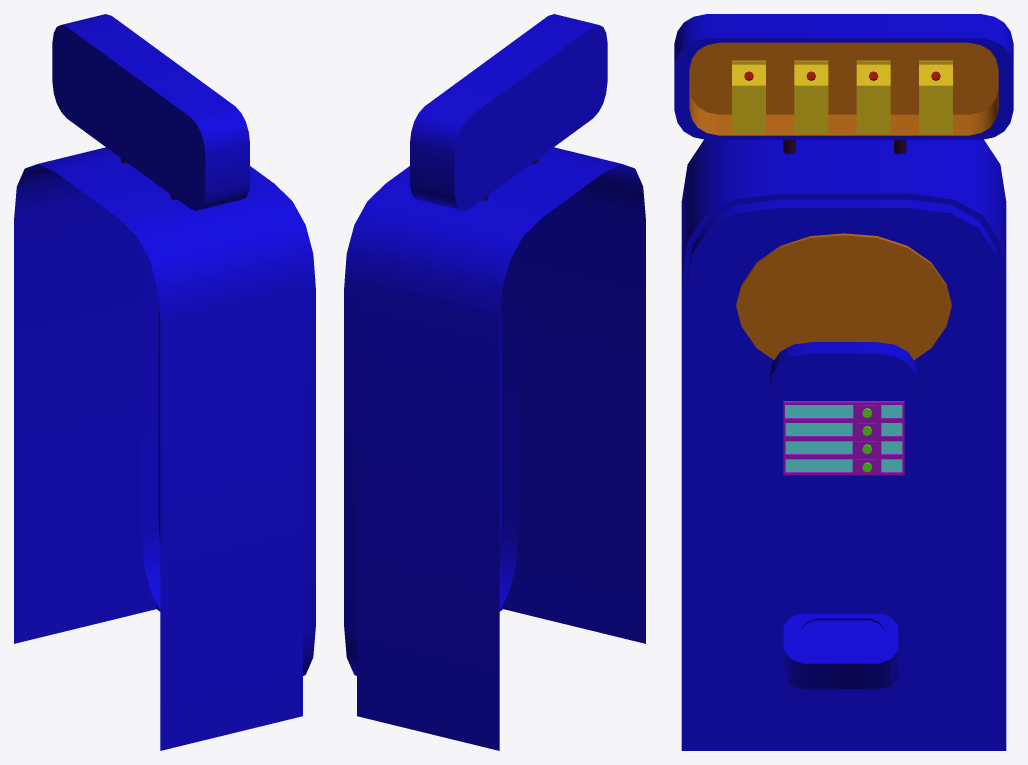
Rendered from Vending Machine.fbx.
3 views of the same model, side by side, from view 1: azimuth 30°, elevation 25°; view 2: azimuth 150°, elevation 25°; view 3: azimuth 270°, elevation 25° (orthographic). The views are drawn at different scales.
Parts seen in each view (by area): view 1: Vending Machine; view 2: Vending Machine; view 3: Vending Machine.
Part boxes in pixels (x1,y1,x2,y2): Vending Machine: (14, 14, 315, 750); Vending Machine: (344, 14, 645, 750); Vending Machine: (674, 14, 1013, 750).
Size of the model in its own units: 25.66 by 73.13 by 32.95.
